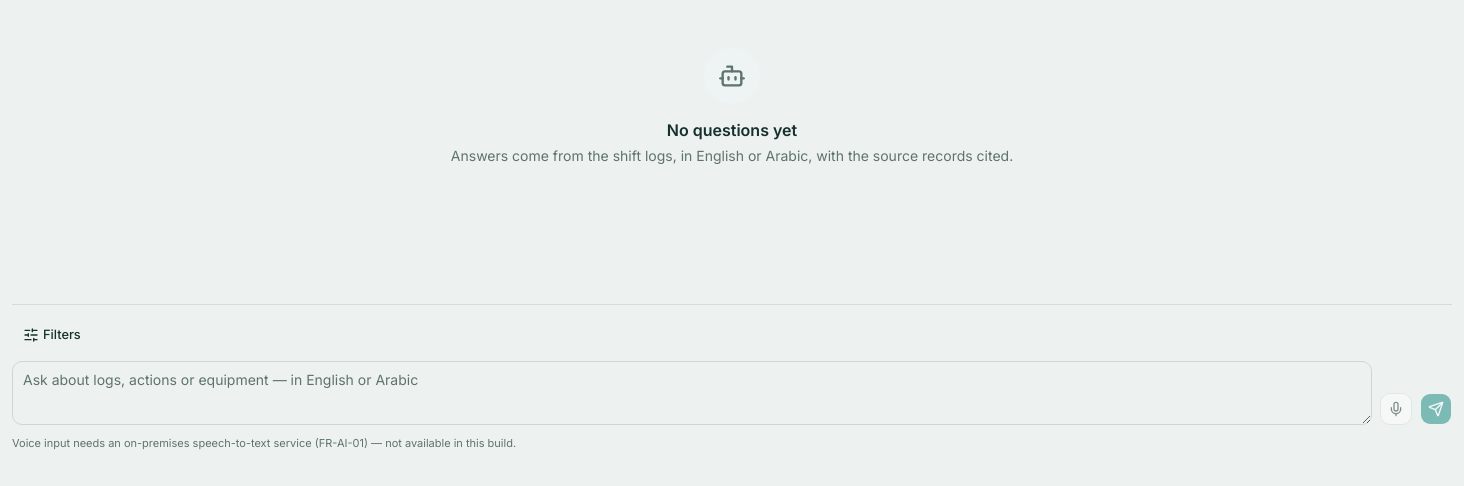
Test: AssistantChat › shows each citation's record id, shift date and GST timestamp
This screenshot has width=1464, height=486.
Type "What happened on B-train?" into the text box named "Ask the assistant".
click(692, 393); type("What happened on B-train?")  # box [12,361,1372,425]
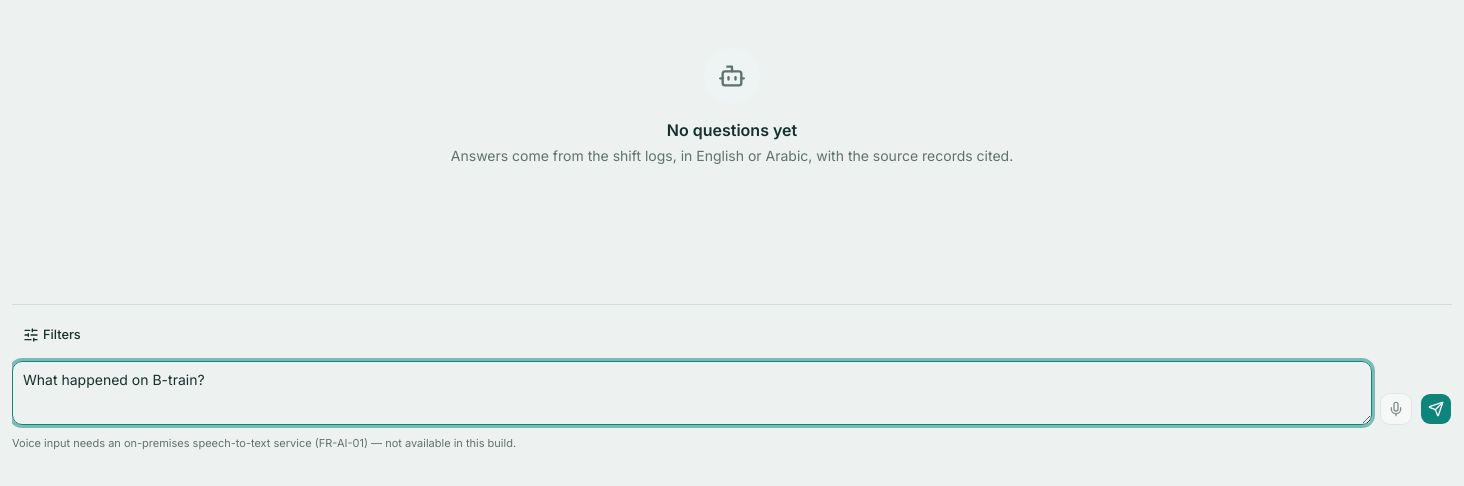
Click the button named "Send question".
click(1436, 409)  # box [1420,393,1452,425]
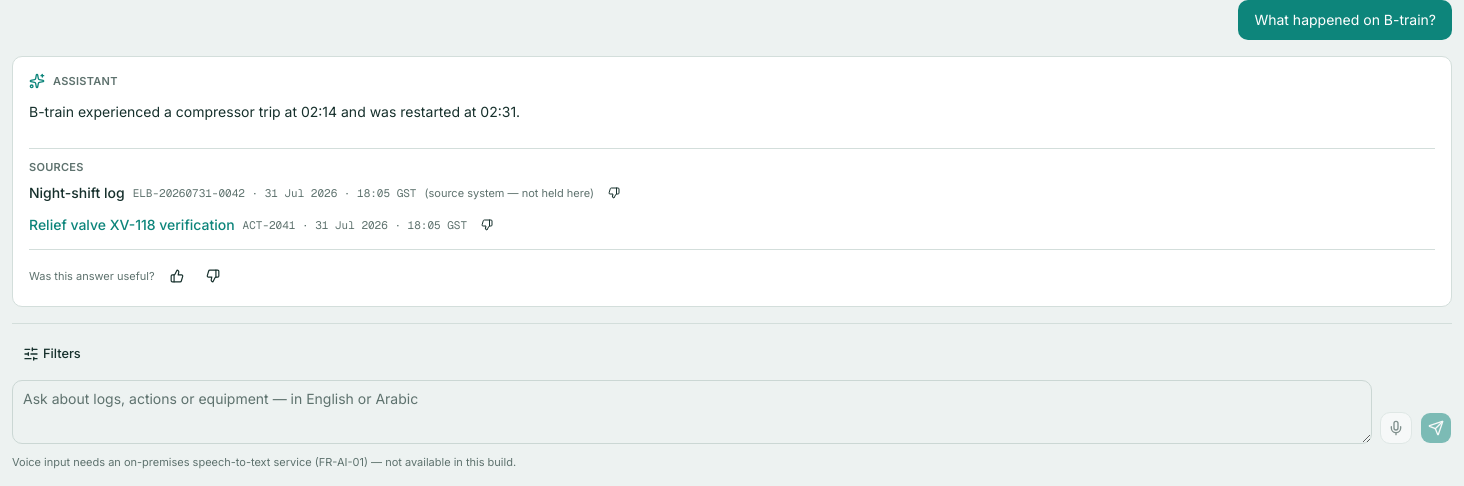
Expected: the text "compressor trip" is shown, [29,103,520,120]
Expected: the text "ELB-20260731-0042 · 31 Jul 2026 · 18:05 GST" is shown, [133,187,416,199]
